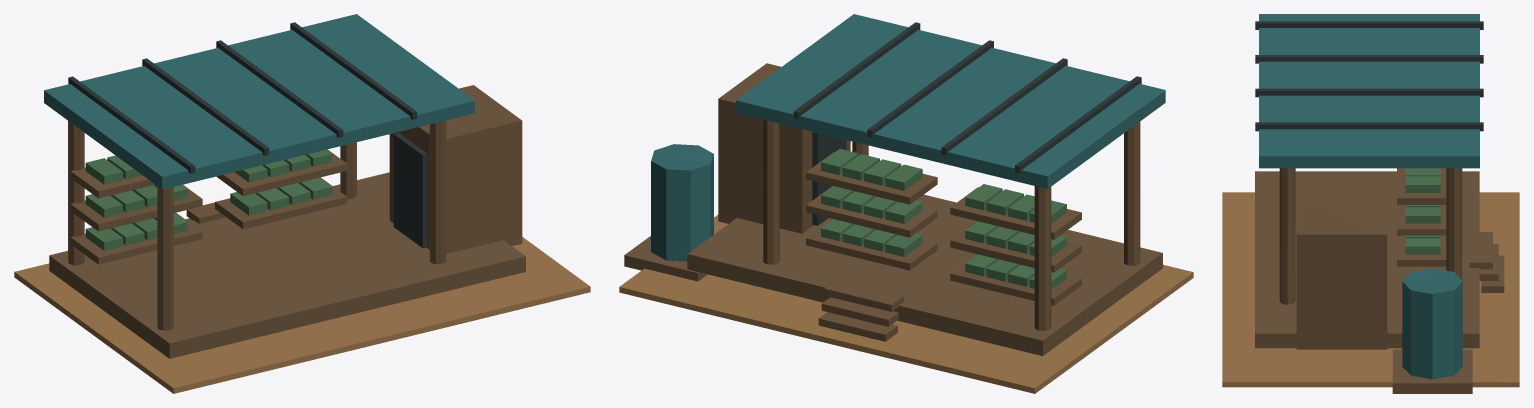
The model's file is reforestation-station.source.glb.
The picture shows the model from 3 angles, left to right: view 1: azimuth 30°, elevation 25°; view 2: azimuth 150°, elevation 25°; view 3: azimuth 270°, elevation 25°; orthographic projection. The views are drawn at different scales.
Visible parts, largest first — view 1: reforestation-station-raised-deck-mesh, reforestation-station-canopy-roof-mesh, reforestation-station-dirt-pad-mesh, reforestation-station-supply-closet-mesh, reforestation-station-closet-door-mesh, reforestation-station-canopy-post-1.35-1.15-mesh, reforestation-station-canopy-post--2.7-1.15-mesh, reforestation-station-rack-0.1-0.85-mesh, reforestation-station-canopy-post--2.7--1.15-mesh, reforestation-station-rack-0.1-1.32-mesh, reforestation-station-rack--2.05-0.85-mesh, reforestation-station-rack--2.05-1.32-mesh (+11 smaller); view 2: reforestation-station-canopy-roof-mesh, reforestation-station-raised-deck-mesh, reforestation-station-dirt-pad-mesh, reforestation-station-supply-closet-mesh, reforestation-station-service-tank-mesh, reforestation-station-canopy-post--2.7--1.15-mesh, reforestation-station-canopy-post-1.35--1.15-mesh, reforestation-station-canopy-post--2.7-1.15-mesh, reforestation-station-rack-0.1-1.79-mesh, reforestation-station-rack-0.1-1.32-mesh, reforestation-station-rack-0.1-0.85-mesh, reforestation-station-rack--2.05-0.85-mesh (+20 smaller); view 3: reforestation-station-canopy-roof-mesh, reforestation-station-dirt-pad-mesh, reforestation-station-supply-closet-mesh, reforestation-station-raised-deck-mesh, reforestation-station-service-tank-mesh, reforestation-station-canopy-post-1.35-1.15-mesh, reforestation-station-tank-stand-mesh, reforestation-station-roof-rib--0.35-mesh, reforestation-station-roof-rib-0.75-mesh, reforestation-station-canopy-post-1.35--1.15-mesh, reforestation-station-roof-rib--2.55-mesh, reforestation-station-roof-rib--1.45-mesh (+10 smaller).
Part boxes in pixels (x1,y1,x2,y2): reforestation-station-raised-deck-mesh: (49,172,525,358); reforestation-station-canopy-roof-mesh: (44,14,474,189); reforestation-station-dirt-pad-mesh: (14,237,590,393); reforestation-station-supply-closet-mesh: (389,85,522,253); reforestation-station-closet-door-mesh: (393,133,427,247); reforestation-station-canopy-post-1.35-1.15-mesh: (429,120,446,264); reforestation-station-canopy-post--2.7-1.15-mesh: (157,186,173,330); reforestation-station-rack-0.1-0.85-mesh: (215,177,347,229); reforestation-station-canopy-post--2.7--1.15-mesh: (68,121,84,265); reforestation-station-rack-0.1-1.32-mesh: (216,149,347,196); reforestation-station-rack--2.05-0.85-mesh: (70,212,202,264); reforestation-station-rack--2.05-1.32-mesh: (70,184,202,231); reforestation-station-canopy-roof-mesh: (736,14,1165,188); reforestation-station-raised-deck-mesh: (687,194,1162,355); reforestation-station-dirt-pad-mesh: (619,215,1193,393); reforestation-station-supply-closet-mesh: (718,63,850,233); reforestation-station-service-tank-mesh: (651,144,713,261); reforestation-station-canopy-post--2.7--1.15-mesh: (1034,186,1051,330); reforestation-station-canopy-post-1.35--1.15-mesh: (763,120,779,264); reforestation-station-canopy-post--2.7-1.15-mesh: (1124,121,1140,265); reforestation-station-rack-0.1-1.79-mesh: (806,152,937,204); reforestation-station-rack-0.1-1.32-mesh: (806,186,937,237); reforestation-station-rack-0.1-0.85-mesh: (806,219,937,270); reforestation-station-rack--2.05-0.85-mesh: (950,254,1081,305); reforestation-station-canopy-roof-mesh: (1259,14,1479,168); reforestation-station-dirt-pad-mesh: (1222,192,1519,387); reforestation-station-supply-closet-mesh: (1296,196,1387,349); reforestation-station-raised-deck-mesh: (1255,171,1479,348); reforestation-station-service-tank-mesh: (1402,268,1462,379); reforestation-station-canopy-post-1.35-1.15-mesh: (1279,168,1295,304); reforestation-station-tank-stand-mesh: (1392,349,1472,393); reforestation-station-roof-rib--0.35-mesh: (1255,88,1483,97); reforestation-station-roof-rib-0.75-mesh: (1255,122,1483,131); reforestation-station-canopy-post-1.35--1.15-mesh: (1446,168,1462,279); reforestation-station-roof-rib--2.55-mesh: (1255,21,1483,29); reforestation-station-roof-rib--1.45-mesh: (1255,55,1483,63).
Bounding box in the file's own units: 6.5 × 2.92 × 4.1.
